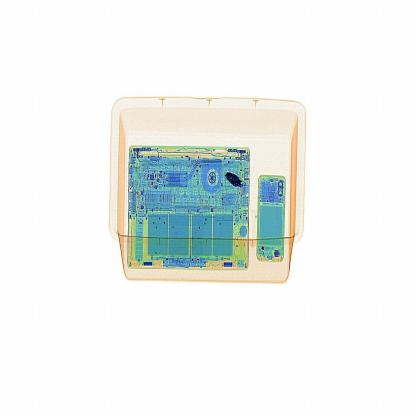scissors: (220, 165, 252, 196)
